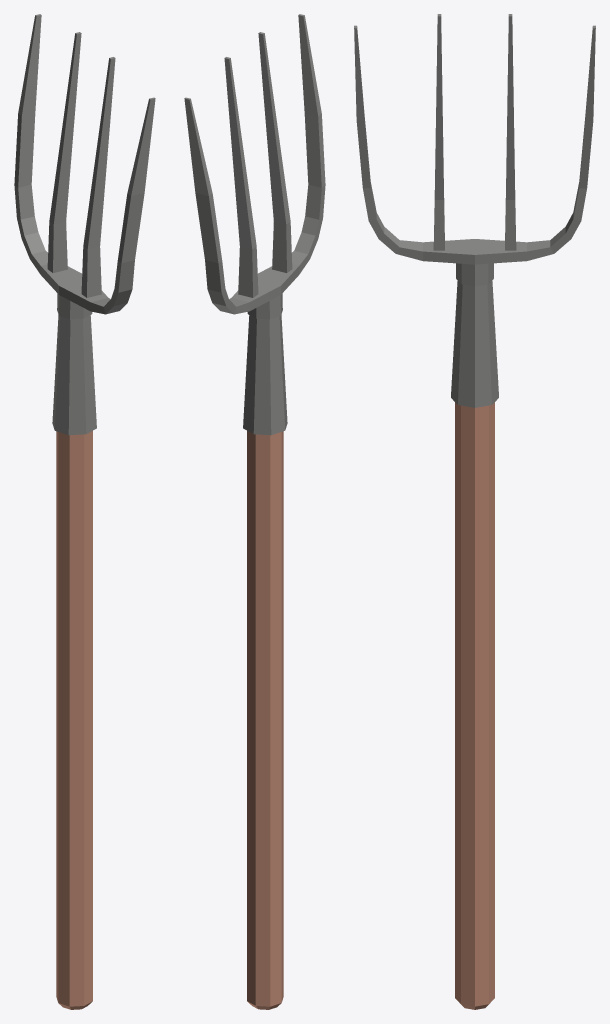
The model's file is Pitchfork.fbx.
3 views of the same model, side by side, from view 1: azimuth 30°, elevation 25°; view 2: azimuth 150°, elevation 25°; view 3: azimuth 270°, elevation 25° (orthographic). The views are drawn at different scales.
Parts seen in each view (by area): view 1: Pitchfork; view 2: Pitchfork; view 3: Pitchfork.
Boxes of the visible parts, x1,y1,x2,y2 form: Pitchfork: (14,14,155,1009); Pitchfork: (184,14,325,1009); Pitchfork: (354,14,595,1009).
Size of the model in its own units: 7.94 by 168 by 36.73.
